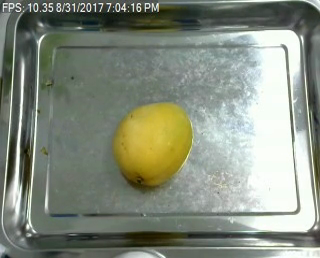Mango: (106, 100, 192, 189)
